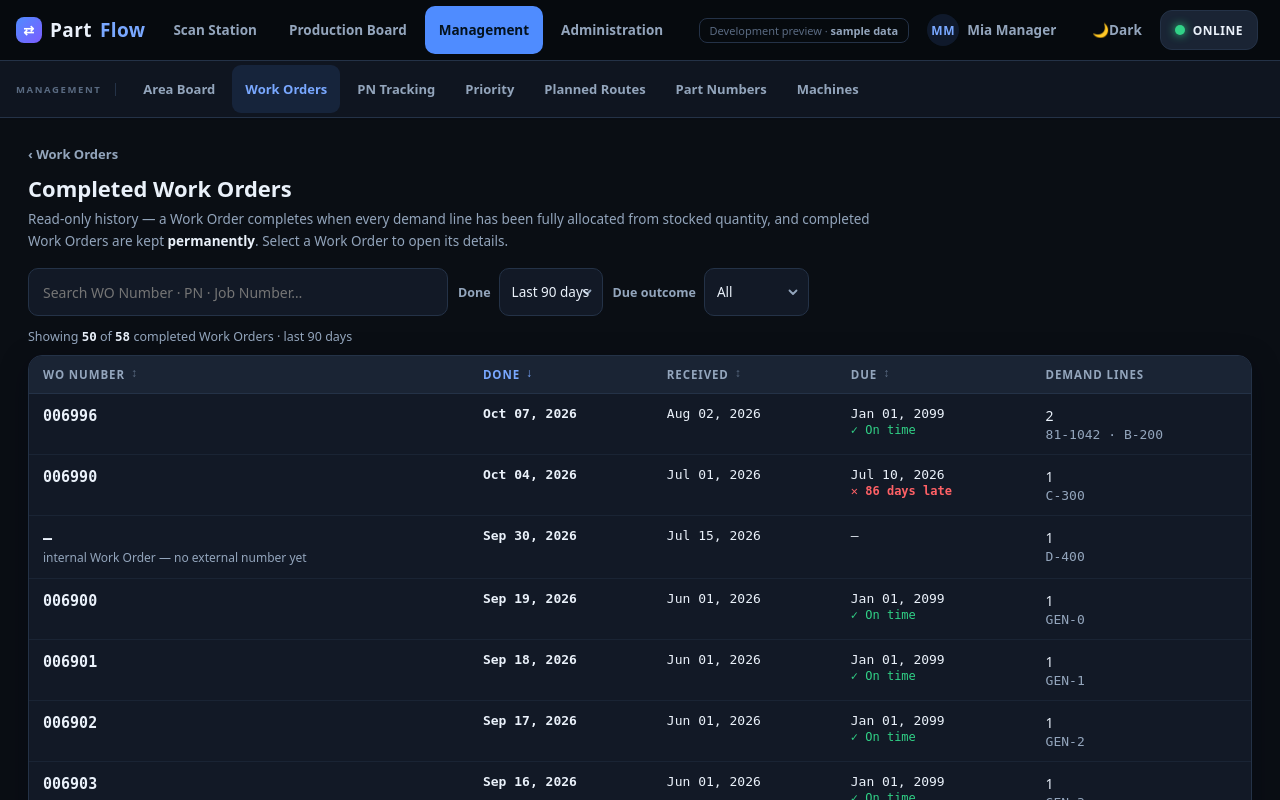
it: the date and identity columns sort on the server — Done descending by default, the cycle returning to it, paging reset per sort
Expected: the heading "Completed Work Orders" is shown, [28,173,292,203]
Expected: the text "Showing 50 of 58 completed Work Orders · last 90 days" is shown, [28,328,352,345]
Step 1. Select "All time" in the dropdown named "Done date range" → (551, 292), box [499,268,603,316]
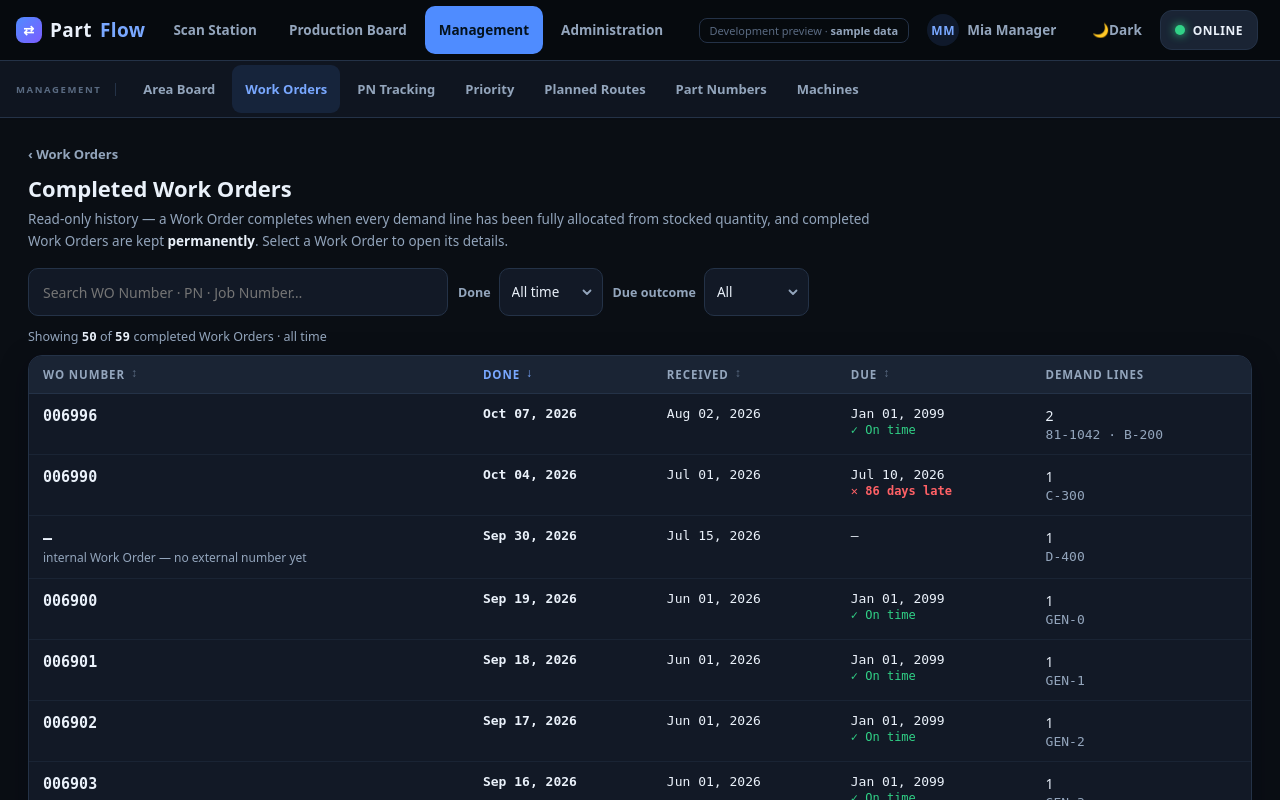
Expected: the text "Showing 50 of 59 completed Work Orders · all time" is shown, [28,328,327,345]
Step 2. Click the button with aria-label "Sort by Due" → (870, 375), box [851,367,890,382]
(page scrolled)
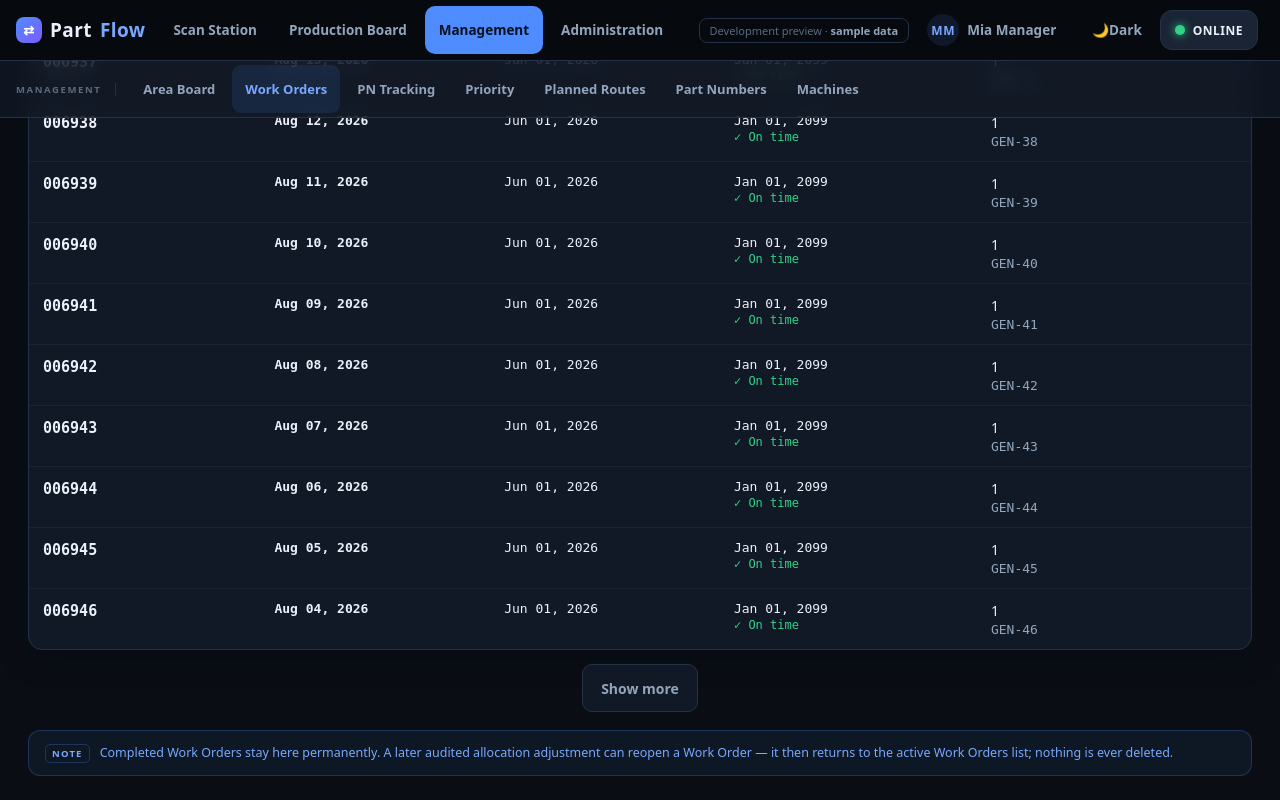
# Show more continues the SAME order from the server's cursor.
Step 3. Click the button "Show more" → (640, 688), box [582,664,698,712]
(page scrolled)
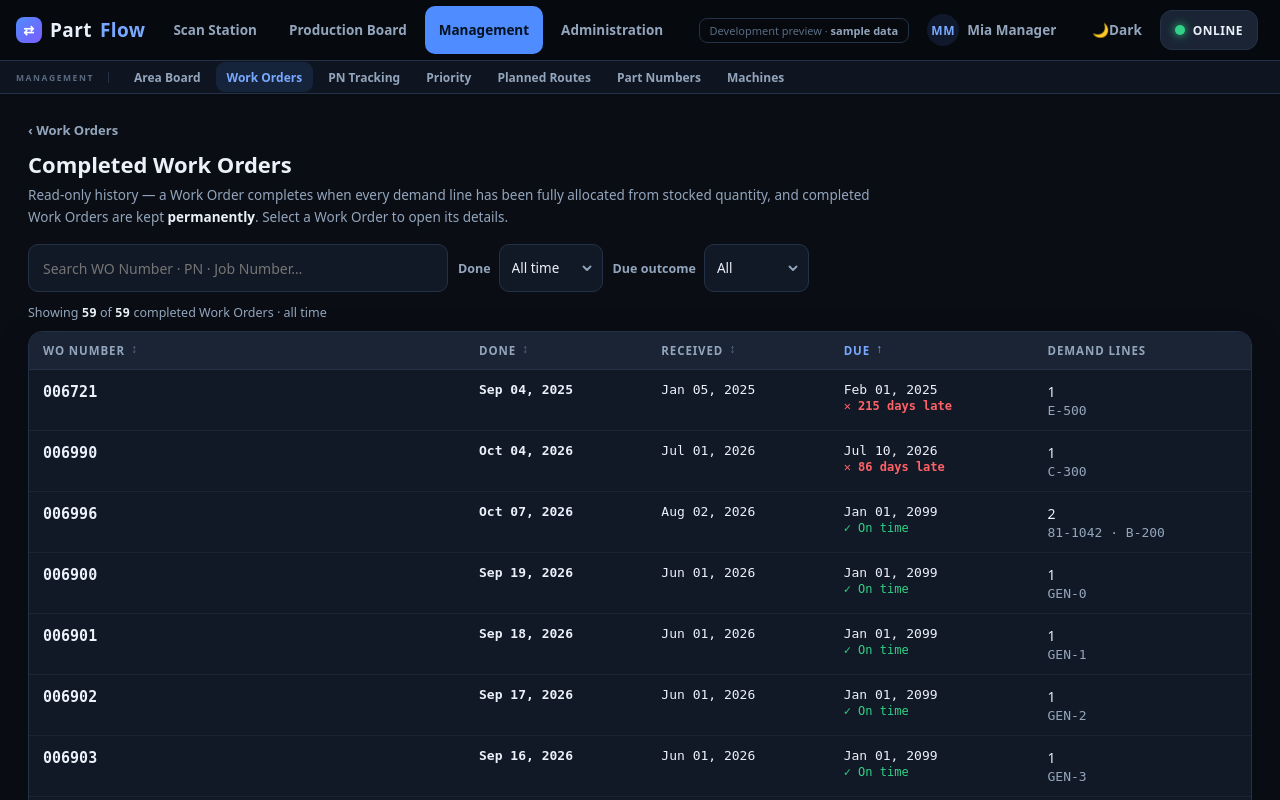
Step 4. Click the button with aria-label "Sort by Due" → (863, 351), box [844,343,883,358]
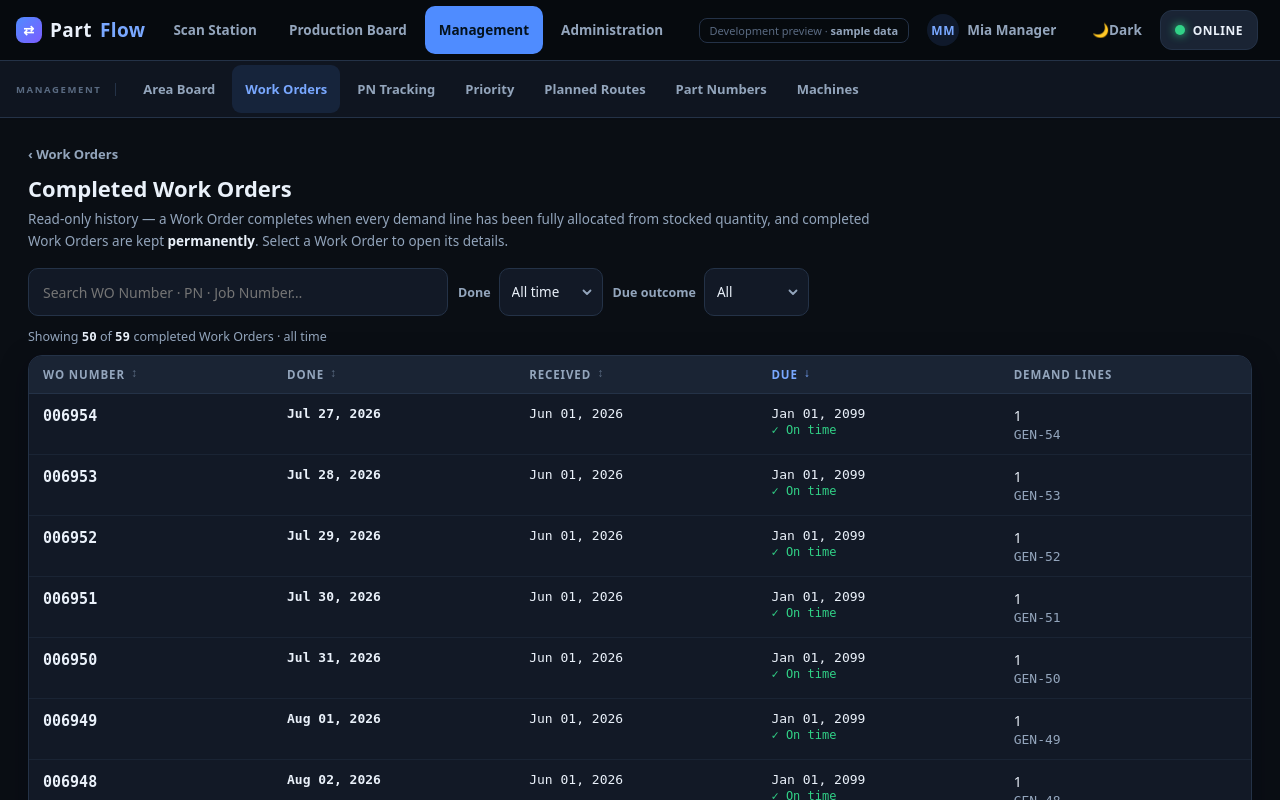
Expected: the row with class "selrow" shows "006954", [43,406,259,425]
# The third click returns to the default order — Done descending.
Step 5. Click the button with aria-label "Sort by Due" → (791, 375), box [771,367,811,382]
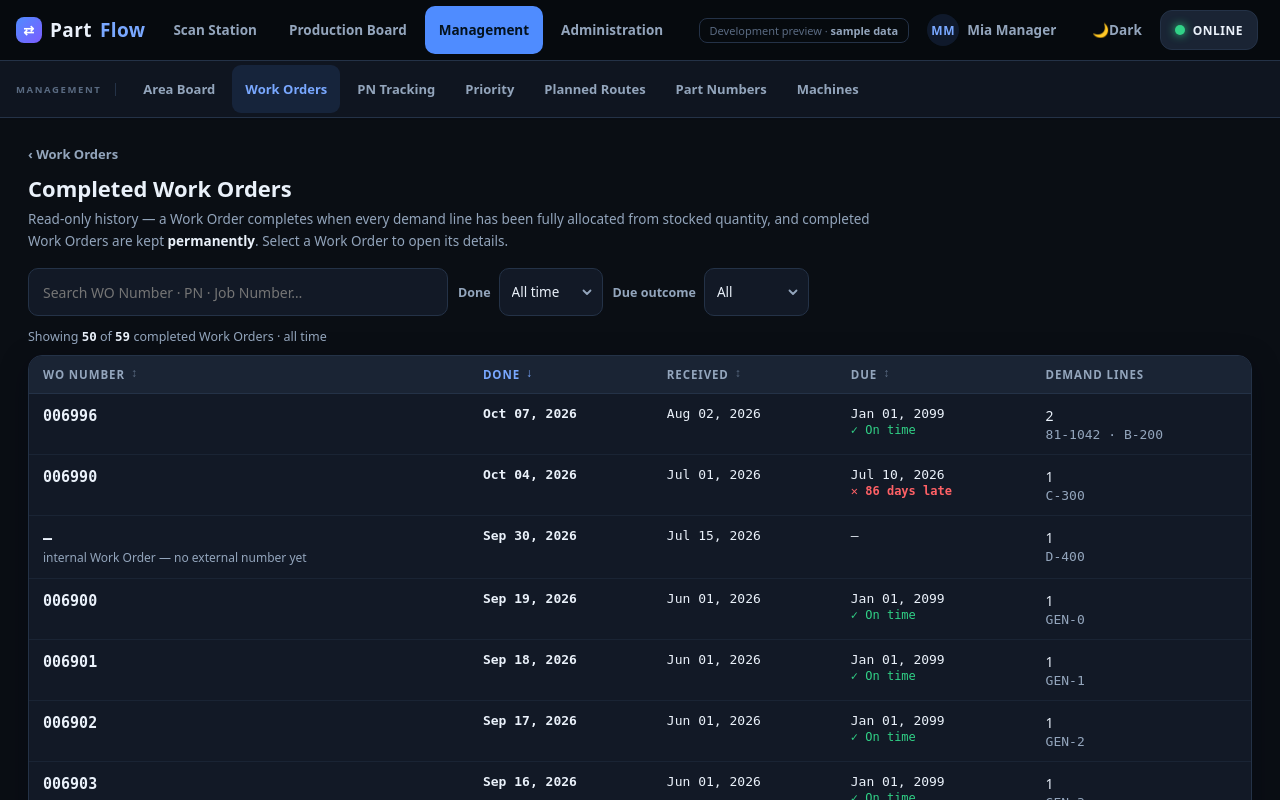
Expected: the row with class "selrow" shows "006996", [43,406,455,425]
Step 6. Click the button with aria-label "Sort by WO Number" → (90, 375), box [43,367,138,382]
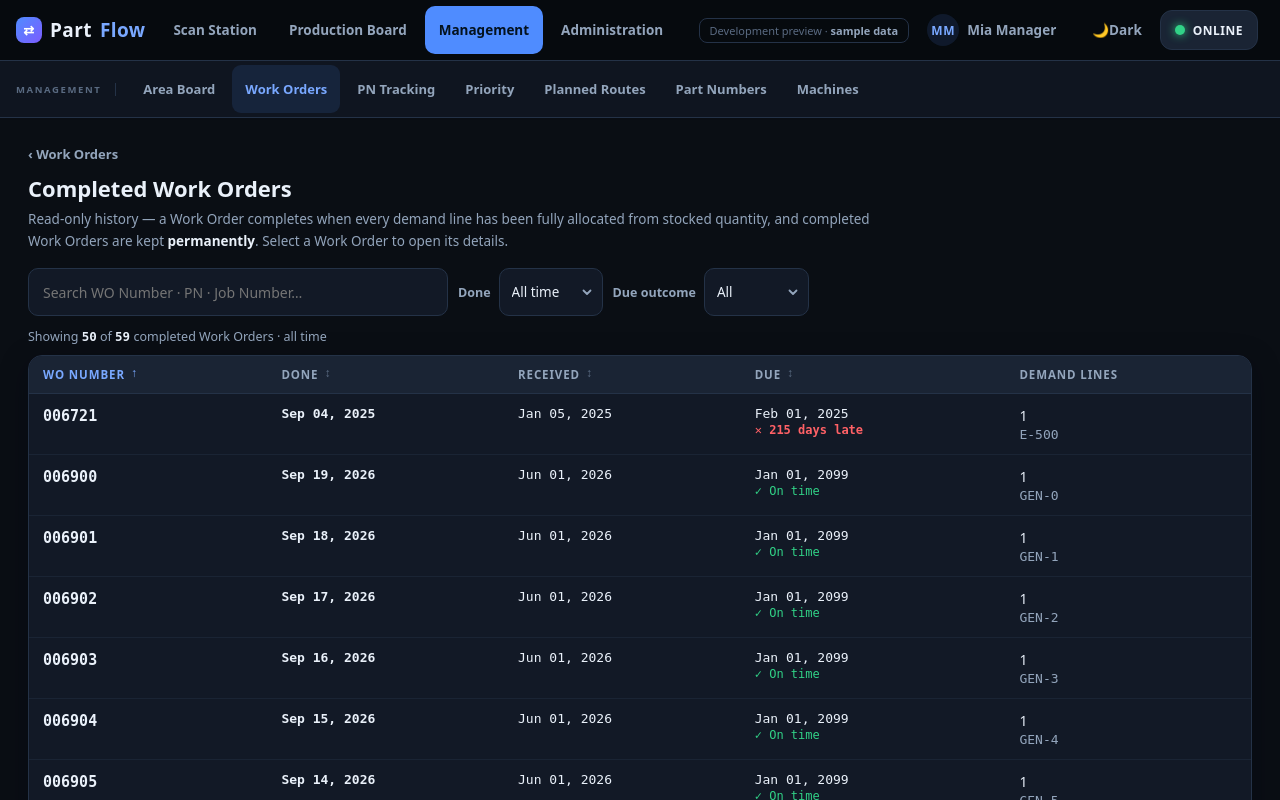
Expected: the row with class "selrow" shows "006721", [43,406,253,425]
Expected: the row with class "selrow" shows "006900", [43,467,253,486]
